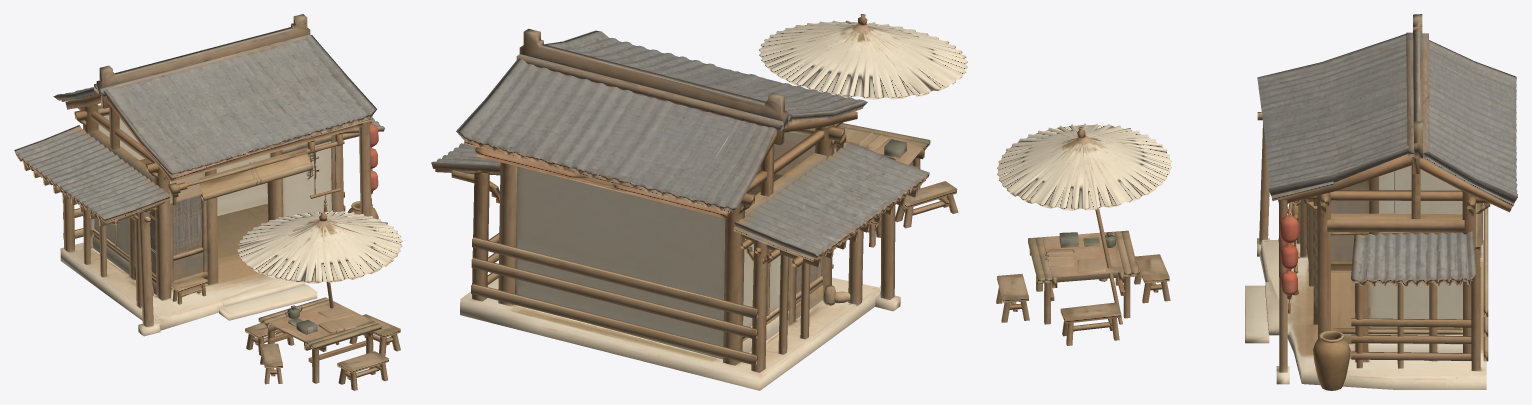
Rendered from tripo_convert_96db579d-e668-4a52-a7c1-05fbb8853c0b.glb.
3 renders of one model, left to right at view 1: azimuth 30°, elevation 25°; view 2: azimuth 150°, elevation 25°; view 3: azimuth 270°, elevation 25°, orthographic. The views are drawn at different scales.
Parts seen in each view (by area): view 1: tripo_node_96db579d-e668-4a52-a7c1-05fbb8853c0b; view 2: tripo_node_96db579d-e668-4a52-a7c1-05fbb8853c0b; view 3: tripo_node_96db579d-e668-4a52-a7c1-05fbb8853c0b.
Part boxes in pixels (<box>): tripo_node_96db579d-e668-4a52-a7c1-05fbb8853c0b: <box>14,14,402,390</box>; tripo_node_96db579d-e668-4a52-a7c1-05fbb8853c0b: <box>431,14,967,390</box>; tripo_node_96db579d-e668-4a52-a7c1-05fbb8853c0b: <box>996,14,1517,390</box>.
Size of the model in its own units: 0.8159 by 0.5347 by 0.9995.
1 material, 1 textured.
